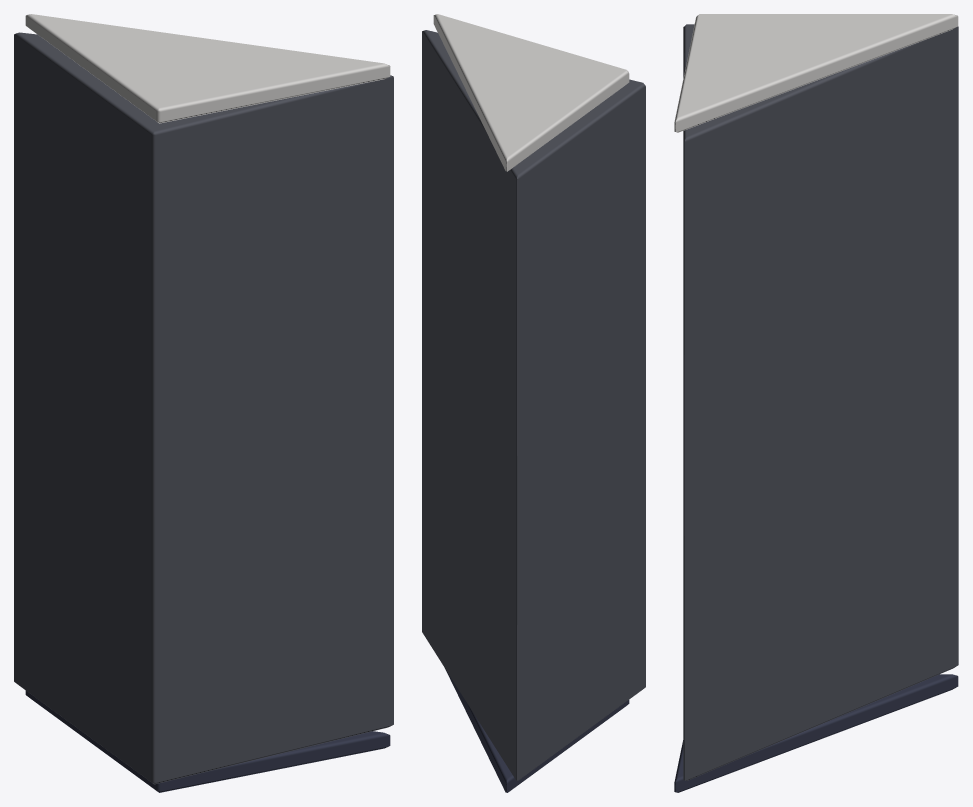
Rendered from hull.slope1.deck.glb.
3 renders of one model, left to right at view 1: azimuth 30°, elevation 25°; view 2: azimuth 150°, elevation 25°; view 3: azimuth 270°, elevation 25°, orthographic. The views are drawn at different scales.
Visible parts, largest first — view 1: hull.slope1.deck; view 2: hull.slope1.deck; view 3: hull.slope1.deck.
Part boxes in pixels (x1,y1,x2,y2): hull.slope1.deck: (14,14,393,792); hull.slope1.deck: (422,14,645,792); hull.slope1.deck: (674,14,958,792).
Size of the model in its own units: 0.9915 by 2.69 by 1.02.
